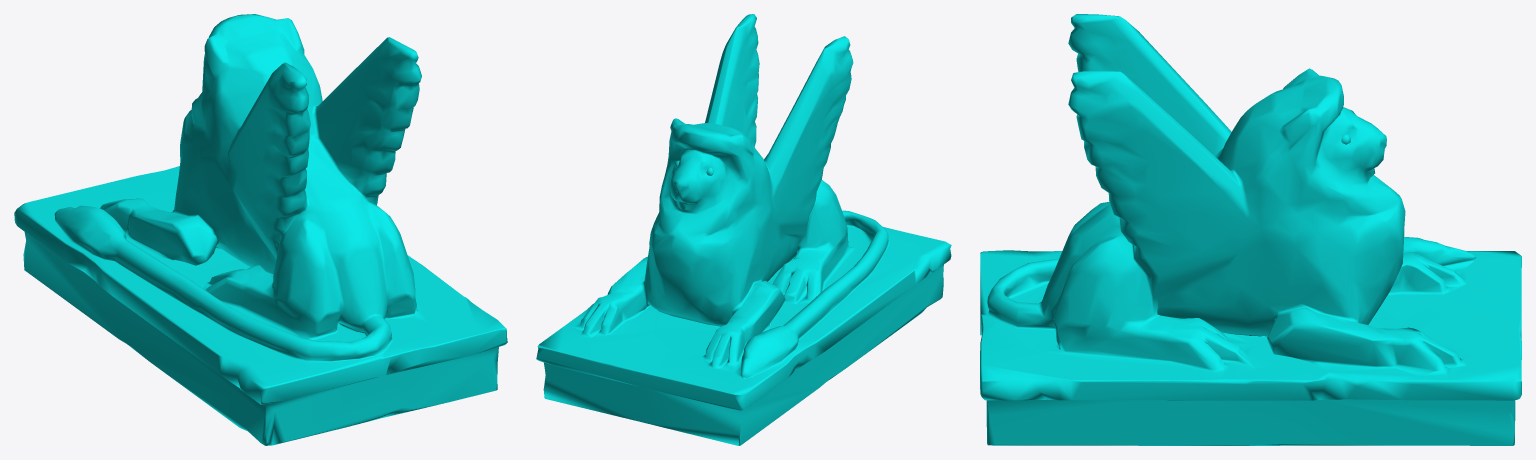
Rendered from Mod_Statue_Lion_Low_Variant0_Version1.fbx.
The picture shows the model from 3 angles, left to right: view 1: azimuth 30°, elevation 25°; view 2: azimuth 150°, elevation 25°; view 3: azimuth 270°, elevation 25°; orthographic projection. The views are drawn at different scales.
Visible parts, largest first — view 1: statue_lion_law; view 2: statue_lion_law; view 3: statue_lion_law.
Part boxes in pixels (x1,y1,x2,y2): statue_lion_law: (14, 14, 507, 445); statue_lion_law: (536, 14, 951, 445); statue_lion_law: (980, 14, 1521, 445).
Bounding box in the file's own units: 28.6 × 35.64 × 50.16.
